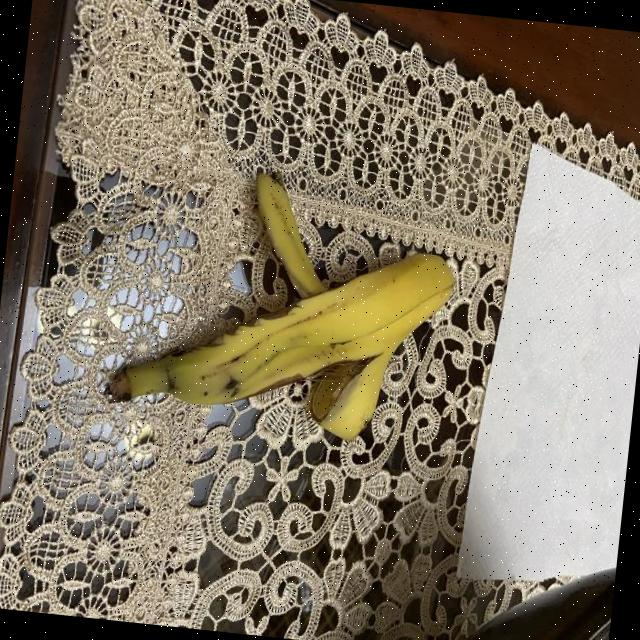banana-peel: (104, 156, 464, 449)
